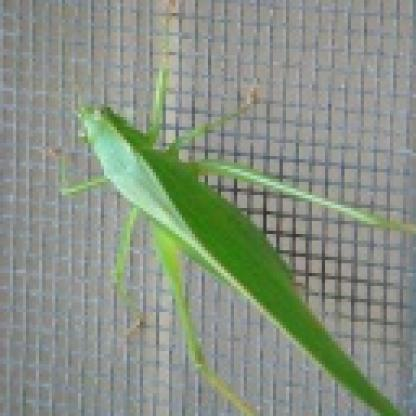grasshopper: (57, 74, 414, 412)
